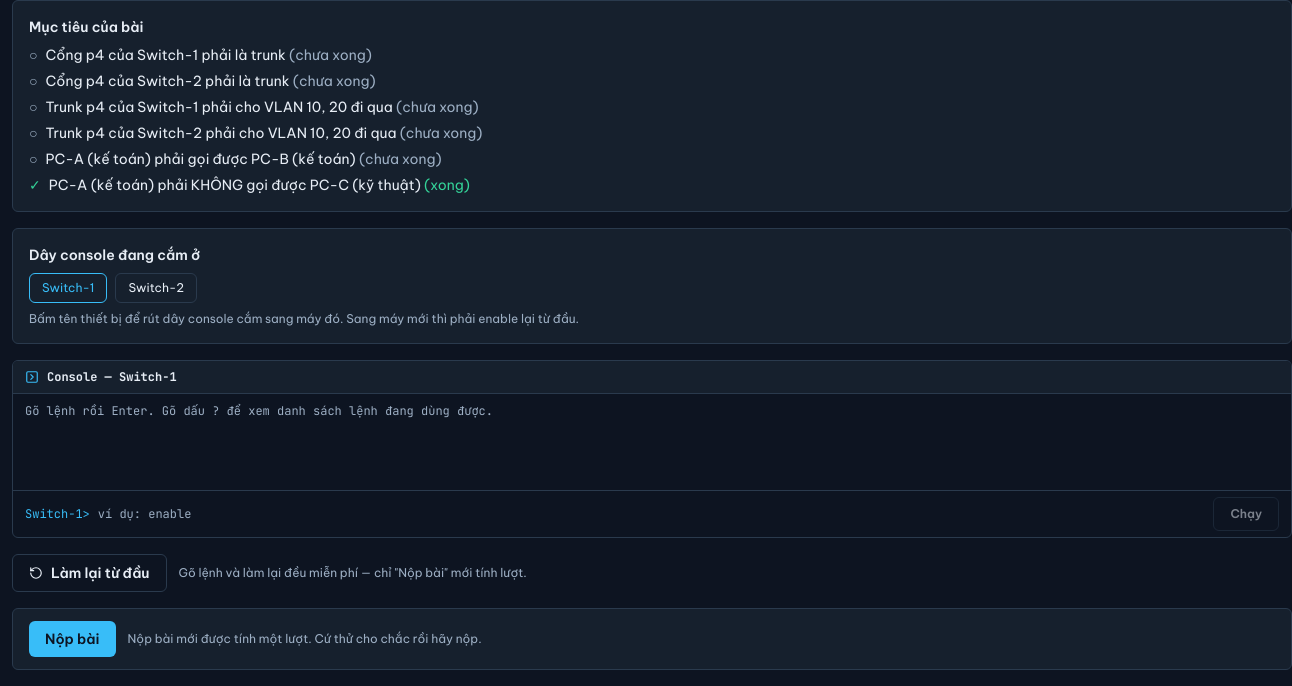
Scenario: console thiết bị › output máy tiếng Anh nguyên văn; lệnh sai chế độ hiện đúng lời từ chối
This screenshot has width=1292, height=686.
Type "configure terminal" into the field at (652, 514), box [98,502,1205,526]
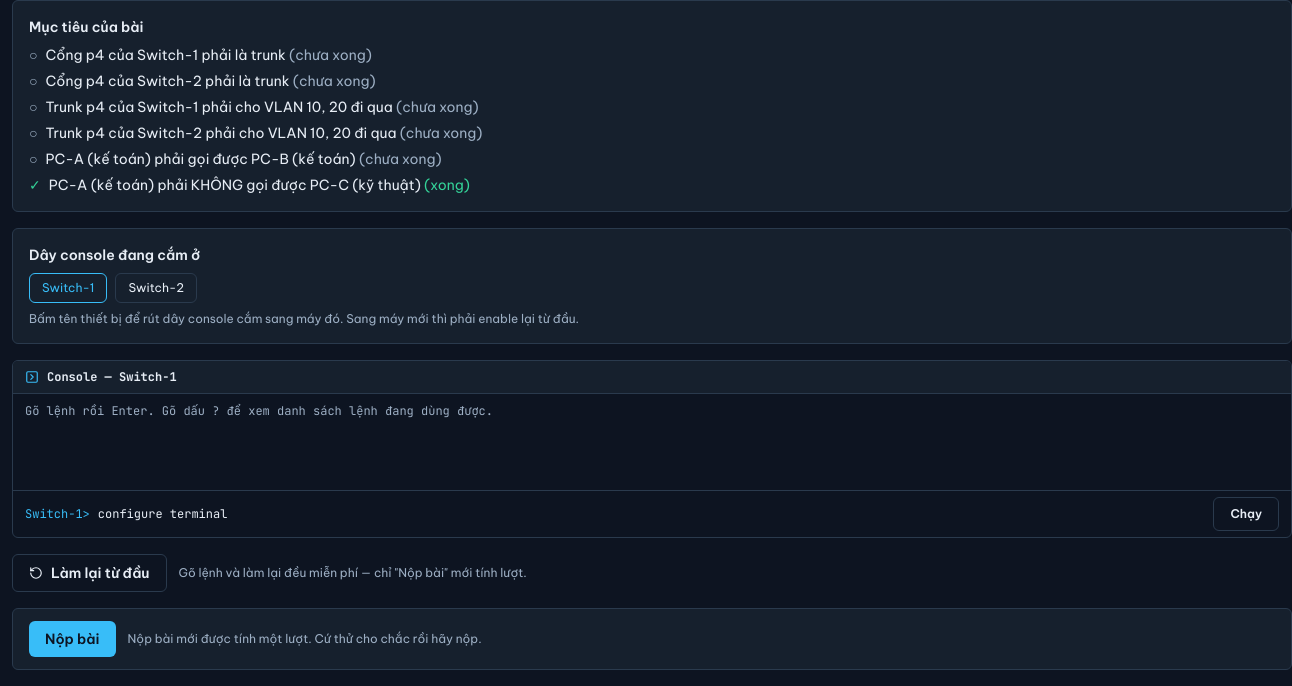
Click the button "Chạy" at (1246, 514), box [1213,497,1279,531]
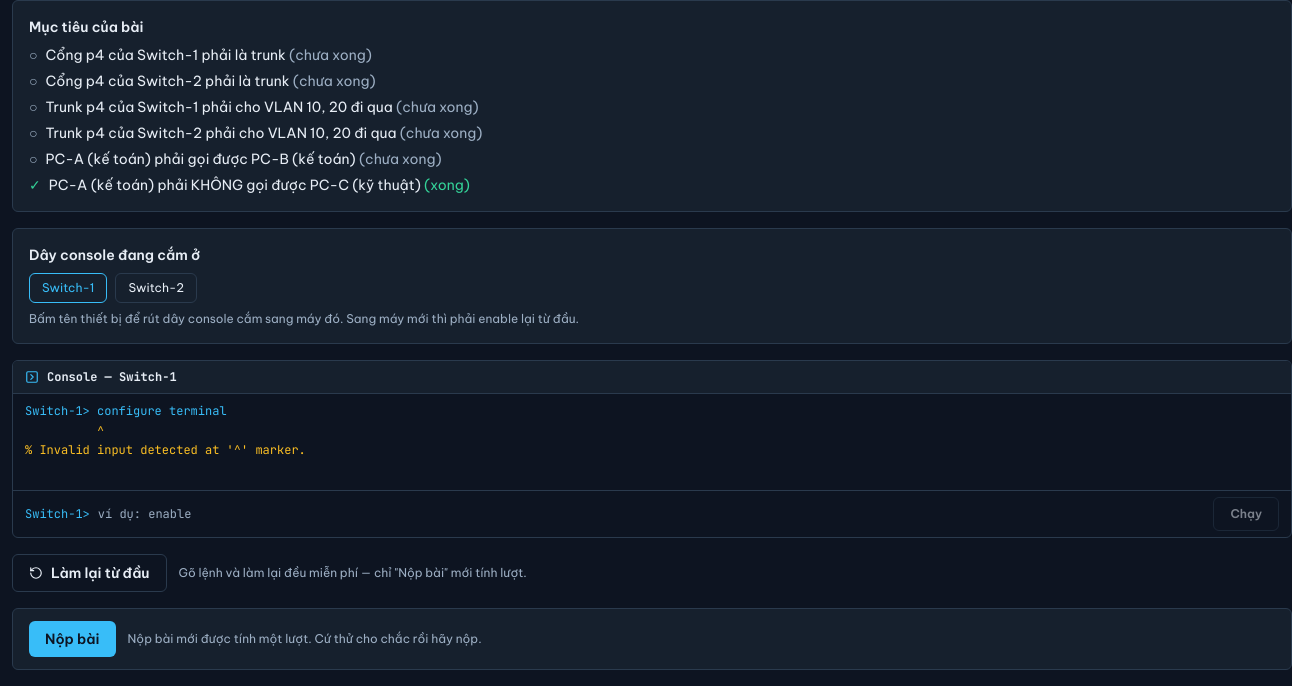
Expected: the text "^ % Invalid input detected at '^' marker." is shown, [25,422,306,458]
Type "show vlan brief" into the field at (652, 514), box [98,502,1205,526]
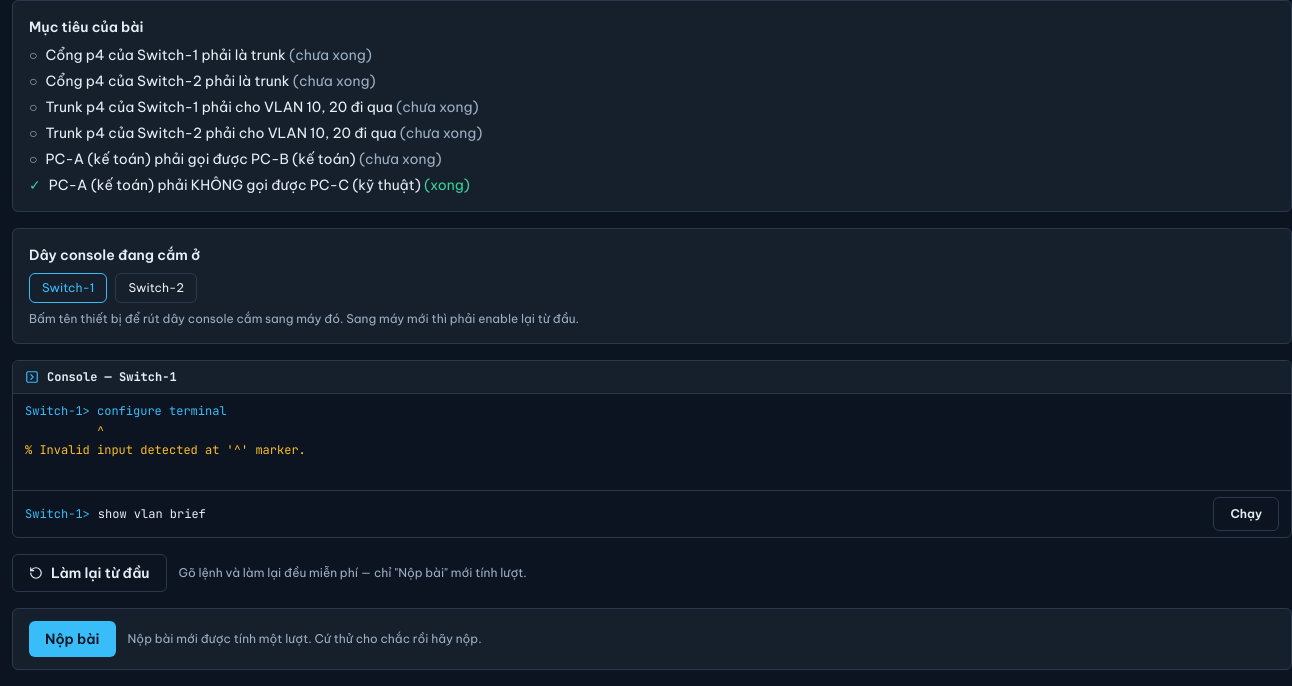
Click the button "Chạy" at (1246, 514), box [1213,497,1279,531]
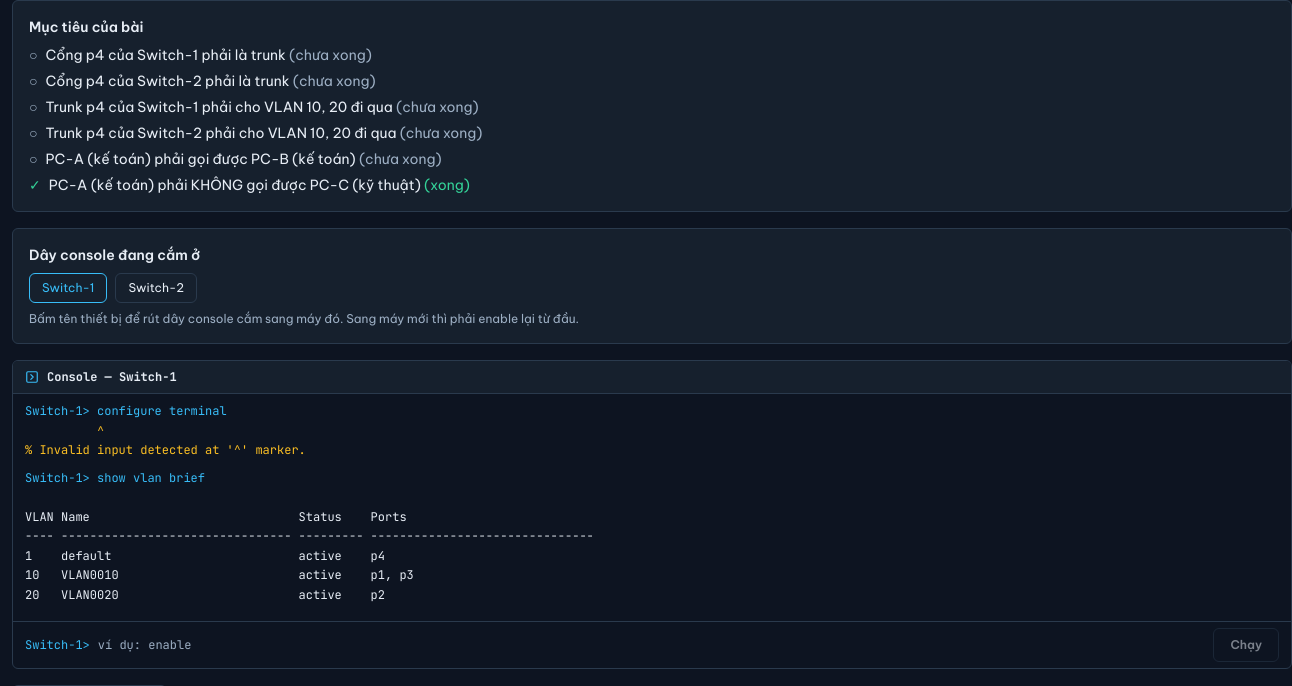
Expected: the text "VLAN0010" is shown, [25,508,594,602]
